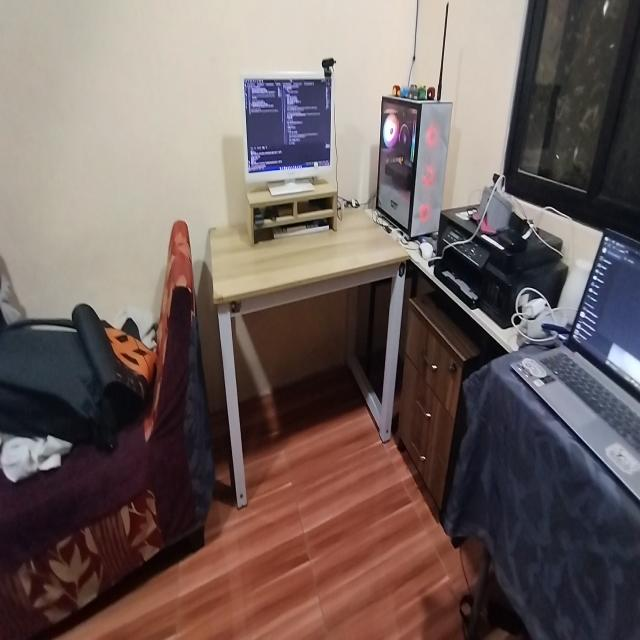table: (206, 206, 408, 515)
